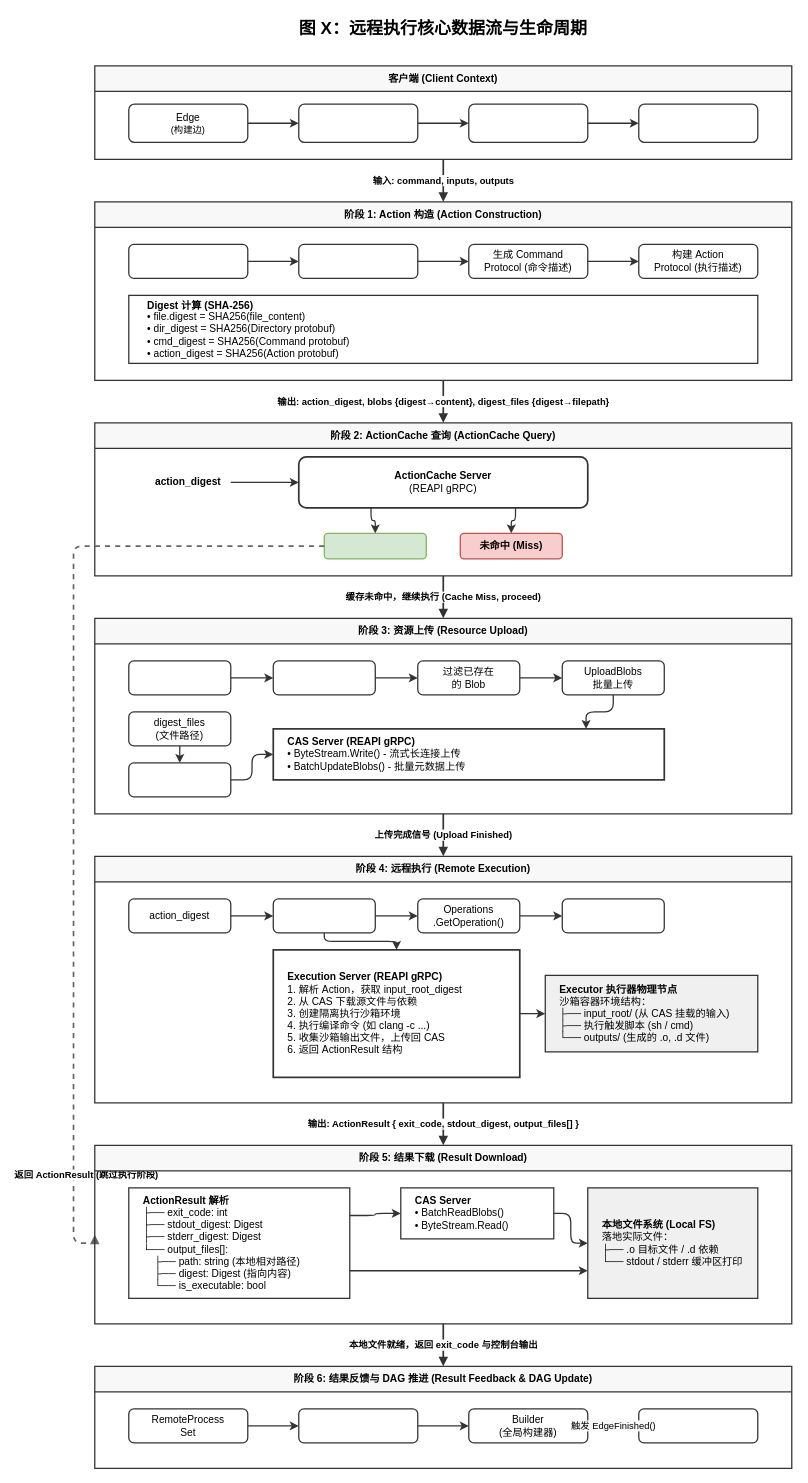
This 808x1483 diagram has some shape labels left out. Each missing label, with the centre of its shape:
"blobs (内存数据)" belongs at (179,677).
"CASClient (CAS 客户端)" belongs at (698,123).
"CloudCommand Runner" belongs at (358,1425).
"Execution .Execute()" belongs at (324,915).
"Execution Context (执行上下文)" belongs at (528,123).
"FindMissing Blobs 查询" belongs at (324,677).
"Plan (依赖图状态推进)" belongs at (698,1425).
"RemoteSpawn (任务元数据)" belongs at (358,123).
"命中 (Cached)" belongs at (375,545).
"构建 Merkle 树结构 (目录树)" belongs at (358,261).
"等待执行完成" belongs at (613,915).
"读取文件 内容并上传" belongs at (179,779).
"输入文件集合 (deps)" belongs at (188,261).
